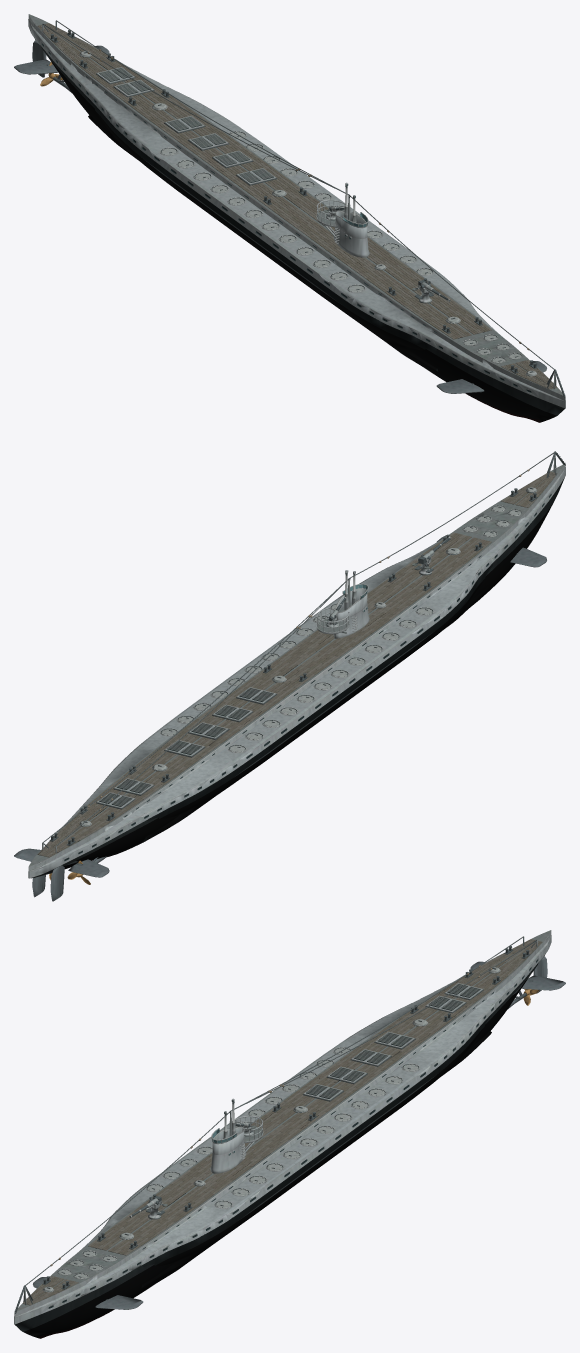
Rendered from uboat-xb.glb.
3 renders of one model, top to bottom at view 1: azimuth 30°, elevation 25°; view 2: azimuth 150°, elevation 25°; view 3: azimuth 330°, elevation 25°, orthographic.
Visible parts, largest first — view 1: deck_casing, deck_gratings_and_fittings, mine_shaft_bulges, hull, jumping_wire, bridge, conning_tower, bow_planes, stern_planes; view 2: deck_casing, deck_gratings_and_fittings, mine_shaft_bulges, hull, jumping_wire, bridge, rudders, stern_planes; view 3: deck_casing, deck_gratings_and_fittings, mine_shaft_bulges, hull, jumping_wire, bridge, conning_tower, bow_planes, stern_planes.
Part boxes in pixels (bbox=[...]): deck_casing: bbox=[28, 14, 565, 408]; deck_gratings_and_fittings: bbox=[37, 23, 557, 389]; mine_shaft_bulges: bbox=[88, 98, 438, 371]; hull: bbox=[35, 39, 564, 422]; jumping_wire: bbox=[42, 20, 554, 369]; bridge: bbox=[316, 200, 368, 243]; conning_tower: bbox=[333, 222, 369, 257]; bow_planes: bbox=[436, 361, 546, 393]; stern_planes: bbox=[14, 45, 109, 74]; deck_casing: bbox=[28, 463, 565, 878]; deck_gratings_and_fittings: bbox=[37, 471, 557, 857]; mine_shaft_bulges: bbox=[142, 563, 493, 842]; hull: bbox=[31, 477, 564, 878]; jumping_wire: bbox=[42, 452, 554, 852]; bridge: bbox=[316, 583, 368, 634]; rudders: bbox=[32, 856, 107, 901]; stern_planes: bbox=[14, 848, 109, 877]; deck_casing: bbox=[14, 930, 551, 1324]; deck_gratings_and_fittings: bbox=[22, 939, 542, 1305]; mine_shaft_bulges: bbox=[141, 1014, 491, 1287]; hull: bbox=[15, 955, 544, 1338]; jumping_wire: bbox=[25, 936, 537, 1285]; bridge: bbox=[211, 1116, 263, 1159]; conning_tower: bbox=[210, 1138, 246, 1173]; bow_planes: bbox=[33, 1277, 143, 1309]; stern_planes: bbox=[470, 961, 565, 990].
Bounding box in the file's own units: 9.94 × 10.71 × 89.8.
20 materials, 19 textured.
